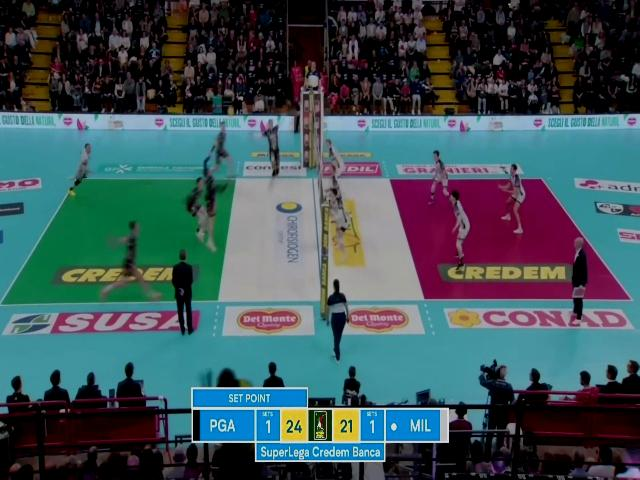volleyball court: (2, 176, 632, 303)
